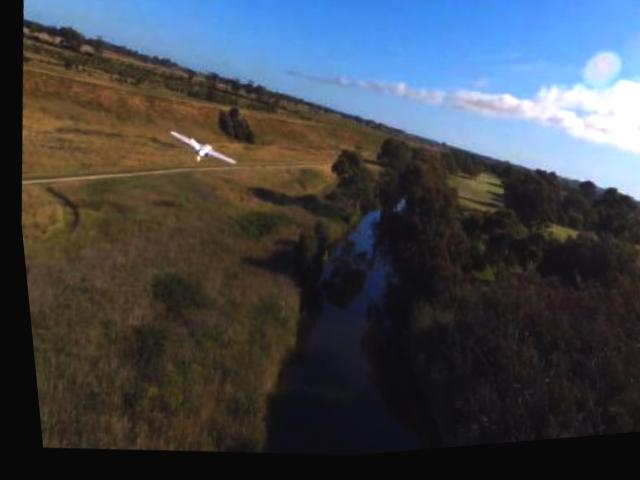uav: (164, 127, 233, 171)
